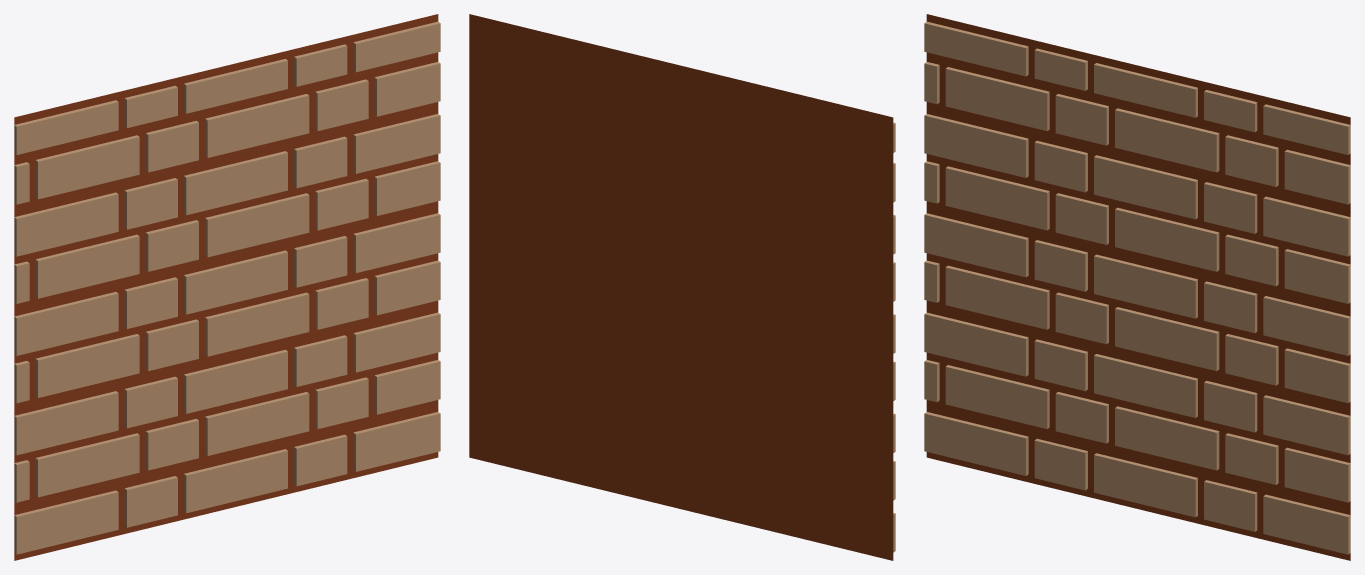
File: Ext-BrickV1.fbx
The picture shows the model from 3 angles, left to right: view 1: azimuth 30°, elevation 25°; view 2: azimuth 150°, elevation 25°; view 3: azimuth 330°, elevation 25°; orthographic projection.
Visible parts, largest first — view 1: Ext-BrickV1; view 2: Ext-BrickV1; view 3: Ext-BrickV1.
Part boxes in pixels (left/top/right/bottom): Ext-BrickV1: left=14, top=14, right=440, bottom=560; Ext-BrickV1: left=469, top=14, right=895, bottom=560; Ext-BrickV1: left=924, top=14, right=1350, bottom=560.
Size of the model in its own units: 200 by 200 by 2.
